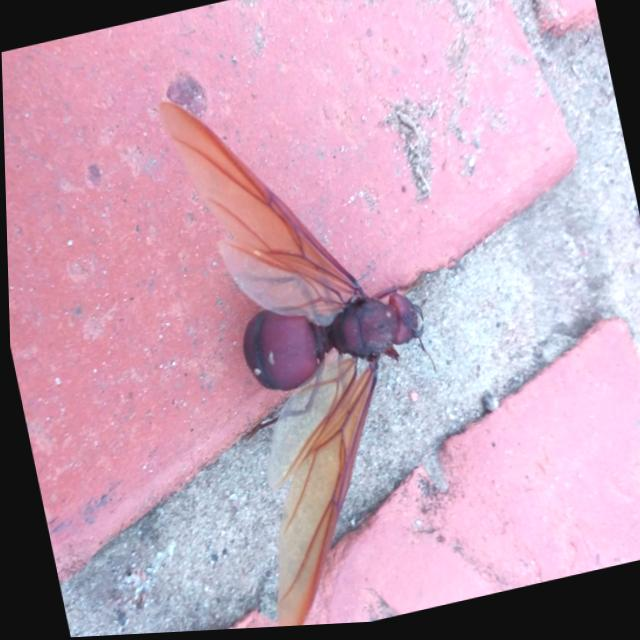Alive-Female-Alate: (153, 54, 479, 634)
